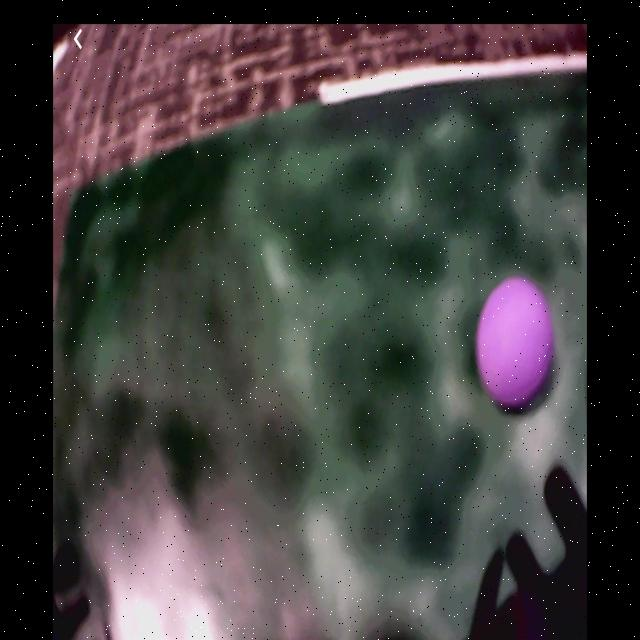ball: (479, 278, 553, 409)
